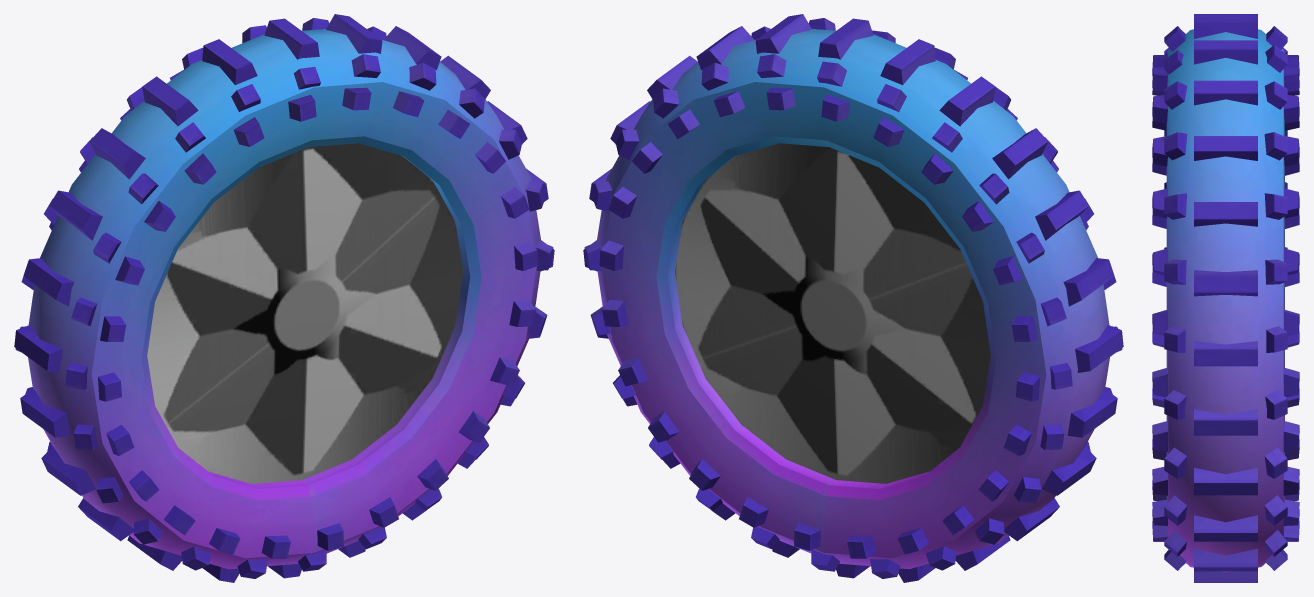
The model's file is wheelB_KTM.fbx.
3 views of the same model, side by side, from view 1: azimuth 30°, elevation 25°; view 2: azimuth 150°, elevation 25°; view 3: azimuth 270°, elevation 25° (orthographic). The views are drawn at different scales.
Parts seen in each view (by area): view 1: ktm_wheelB_1; view 2: ktm_wheelB_1; view 3: ktm_wheelB_1.
Part boxes in pixels (box(x1,y1,x2,y2)): ktm_wheelB_1: box(14, 14, 554, 582); ktm_wheelB_1: box(583, 14, 1123, 582); ktm_wheelB_1: box(1152, 14, 1299, 582).
Size of the model in its own units: 54.68 by 54.68 by 14.12.
